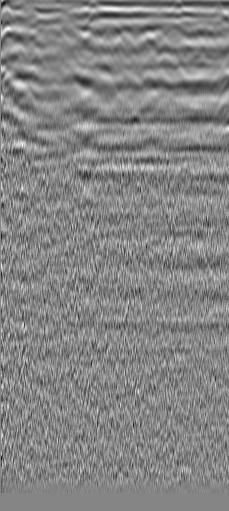가스: (217, 124, 229, 150)
오수: (19, 31, 42, 52)
우수: (157, 24, 185, 47)
